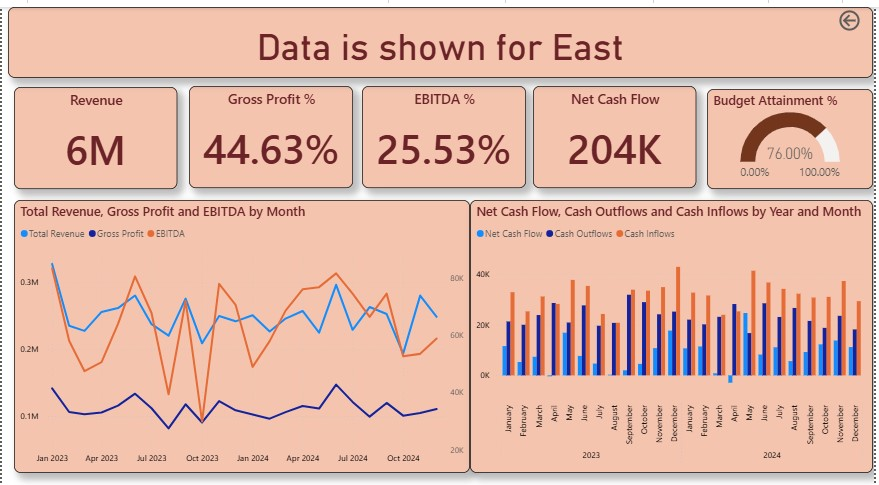

This screenshot's page, from the dashboard's own definition file:
{"tool":"powerbi","page":{"name":"Drill Through (Region)","canvas":[1280,720],"ordinal":1},"visuals":[{"type":"card","title":"Revenue","fields":{"Values":["Measure Table.Total_Revenue"]},"box":[17.6,117.1,239.5,149.9],"z":0,"group":"g1"},{"type":"gauge","fields":{"Y":["Measure Table.Budget Attainment %"]},"box":[1035.9,120.5,243.9,146.9],"z":0},{"type":"card","title":"Gross Profit %","fields":{"Values":["Measure Table.Gross_Proit%"]},"box":[274.4,116.1,241,149.9],"z":1000,"group":"g1"},{"type":"group","id":"g1","title":"ScoreCards","box":[17.6,116.1,1002.1,151.3],"z":1000},{"type":"card","fields":{"Values":["Measure Table.Selected_Value"]},"box":[8.8,0,1271,104.3],"z":2000},{"type":"card","title":"EBITDA %","fields":{"Values":["Measure Table.EBITDA%"]},"box":[528.6,116.1,241,149.9],"z":2000,"group":"g1"},{"type":"card","title":"Net Cash Flow","fields":{"Values":["Measure Table.Net_Cash_Flow"]},"box":[779.9,116.1,239.5,149.9],"z":3000,"group":"g1"},{"type":"actionButton","box":[1225.5,0,54.4,39.7],"z":3000},{"type":"lineChart","fields":{"Y2":["Sum(Data.EBITDA)"],"Y":["Sum(Data.Revenue)","Sum(Data.Gross Profit)"],"Category":["Data.Month"]},"box":[27.9,283.6,646.5,311.5],"z":4000},{"type":"clusteredColumnChart","fields":{"Y":["Measure Table.Net_Cash_Flow","Sum(Data.Cash Outflows)","Sum(Data.Cash Inflows)"],"Category":["Date_Table.Date.Variation.Date Hierarchy.Year","Date_Table.Date.Variation.Date Hierarchy.Month"]},"box":[687.7,283.6,592.2,313],"z":4001}]}

Visuals, with their boxes in screenshot pixels (x1, y1, x2, y2), scaled from the page's 1280x720 canvas onto the 879x485 screenshot:
"Revenue" card: pyautogui.locateOnScreen(12, 79, 177, 180)
gauge - Measure Table.Budget Attainment %: pyautogui.locateOnScreen(711, 81, 878, 180)
"Gross Profit %" card: pyautogui.locateOnScreen(188, 78, 354, 179)
"ScoreCards" group: pyautogui.locateOnScreen(12, 78, 700, 180)
card - Measure Table.Selected_Value: pyautogui.locateOnScreen(6, 0, 878, 70)
"EBITDA %" card: pyautogui.locateOnScreen(363, 78, 528, 179)
"Net Cash Flow" card: pyautogui.locateOnScreen(536, 78, 700, 179)
actionButton: pyautogui.locateOnScreen(842, 0, 878, 27)
lineChart - Sum(Data.EBITDA) x Sum(Data.Revenue): pyautogui.locateOnScreen(19, 191, 463, 401)
clusteredColumnChart - Measure Table.Net_Cash_Flow x Sum(Data.Cash Outflows): pyautogui.locateOnScreen(472, 191, 878, 402)
